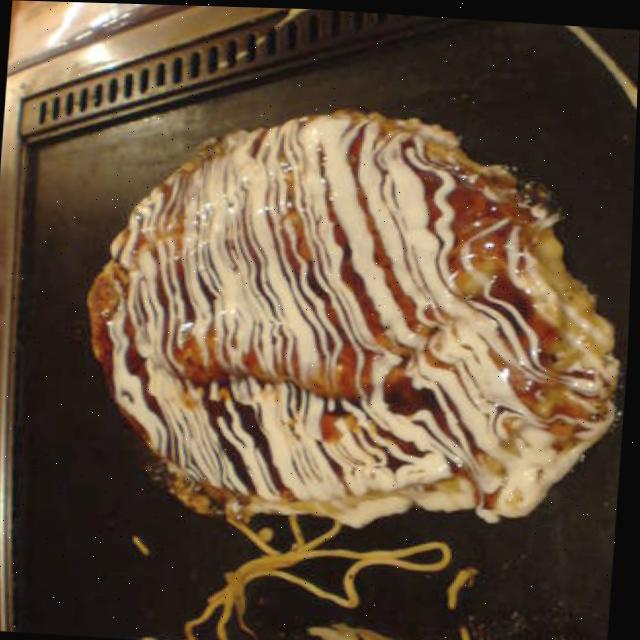蛋糕甜品: (69, 99, 637, 534)
